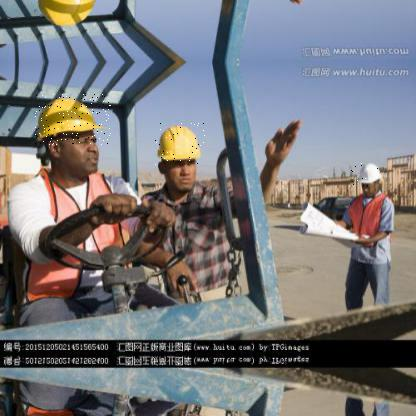safetyhelmet: (35, 95, 112, 146), (154, 122, 207, 166), (350, 162, 385, 188)
